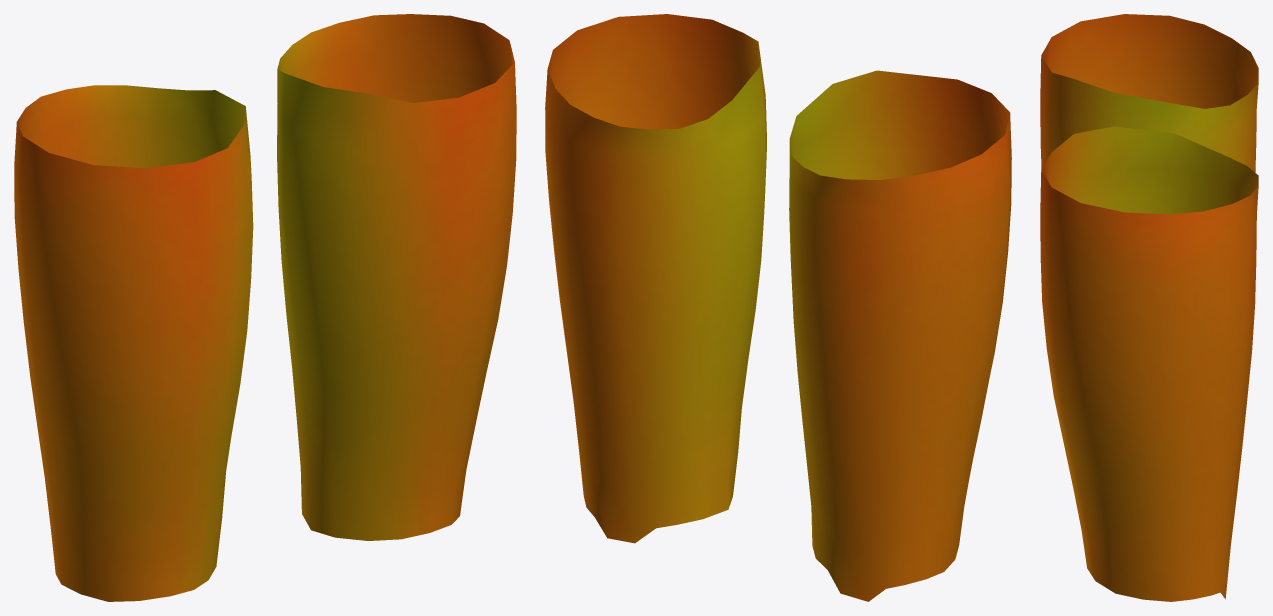
File: upperlegs.obj
The picture shows the model from 3 angles, left to right: view 1: azimuth 30°, elevation 25°; view 2: azimuth 150°, elevation 25°; view 3: azimuth 270°, elevation 25°; orthographic projection. The views are drawn at different scales.
Visible parts, largest first — view 1: upperlegs_0; view 2: upperlegs_0; view 3: upperlegs_0.
Boxes of the visible parts, box(x1,y1,x2,y2) form: upperlegs_0: box(14, 14, 516, 601); upperlegs_0: box(545, 14, 1011, 601); upperlegs_0: box(1040, 14, 1258, 601).
Bounding box in the file's own units: 0.3496 × 0.3496 × 0.1599.
Materials: 1 (1 with a texture image).
